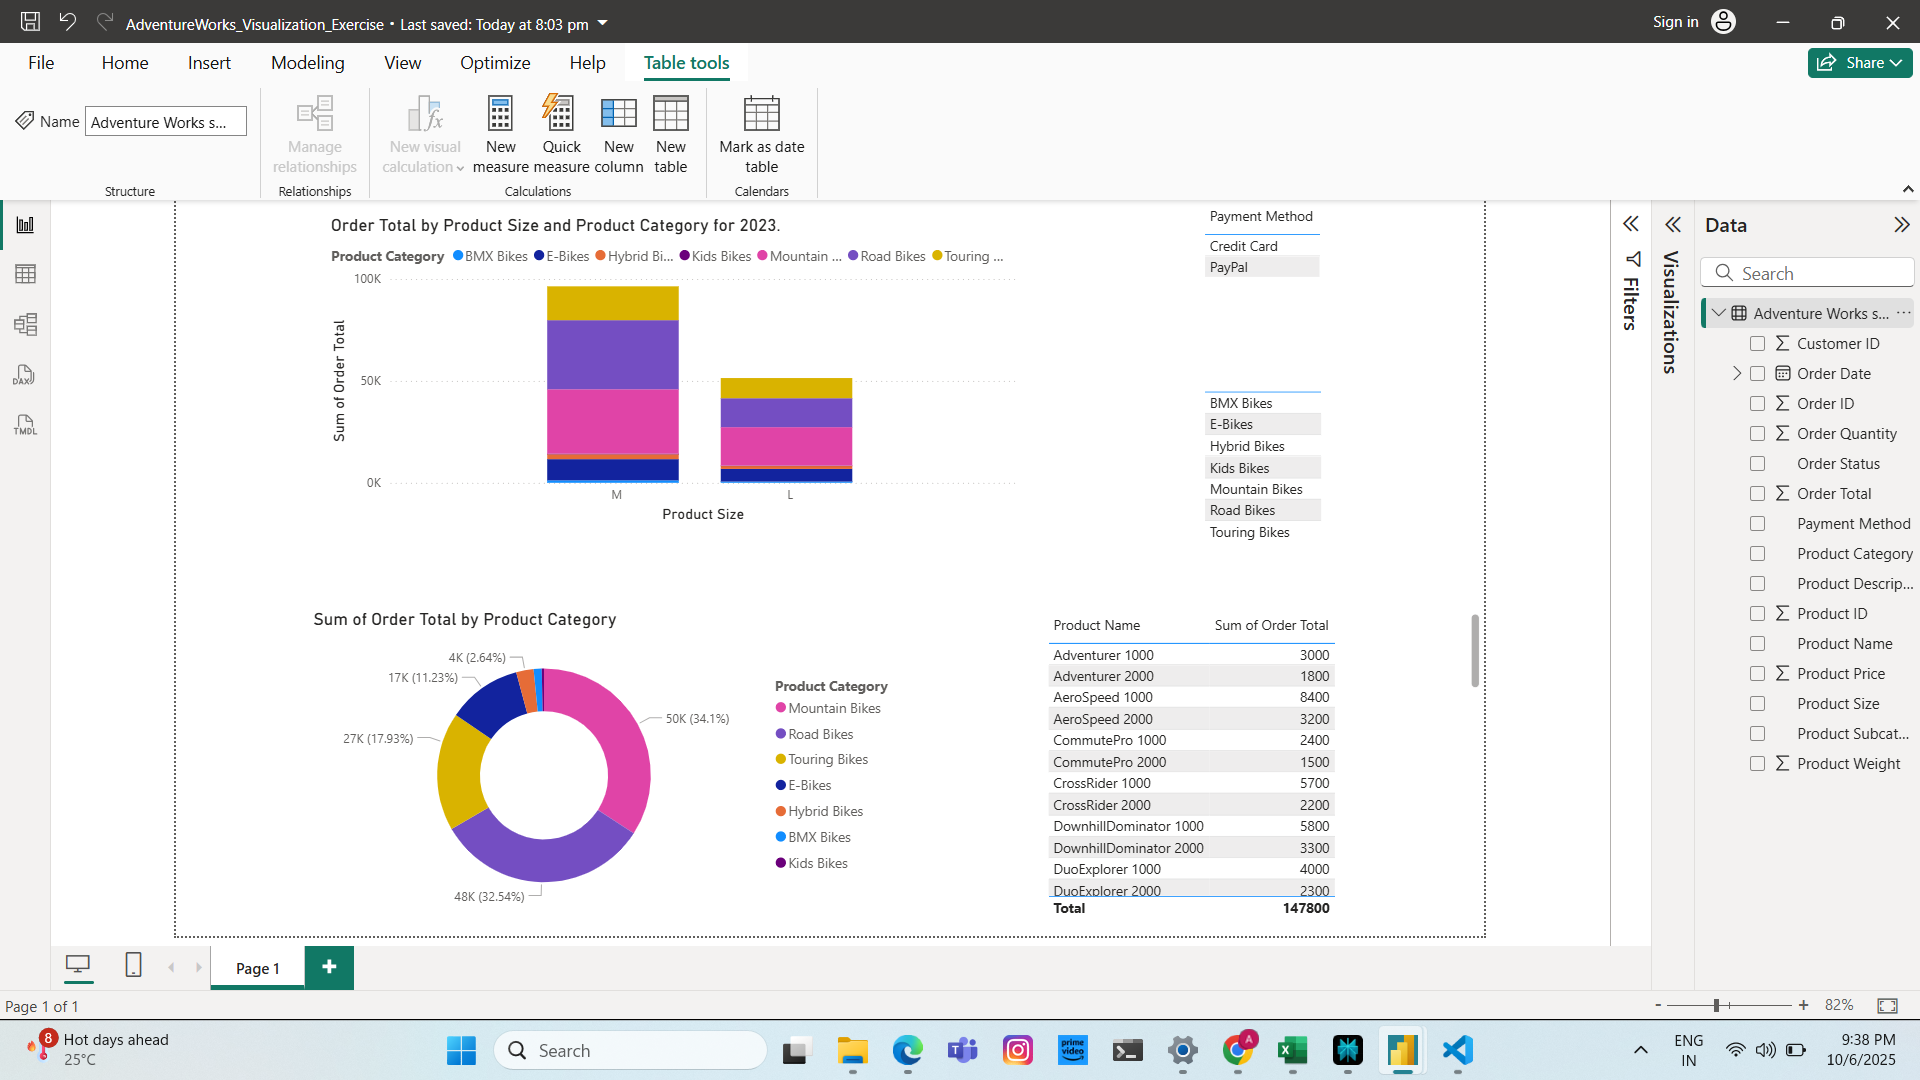

The page's visual inventory and layout, read from the dashboard file:
{"tool":"powerbi","page":{"name":"Page 1","canvas":[1280,720],"ordinal":0},"visuals":[{"type":"tableEx","fields":{"Values":["Adventure Works sales dataset csv.Product Category"]},"box":[1000,154.3,218.6,205.7],"z":0},{"type":"tableEx","fields":{"Values":["Adventure Works sales dataset csv.Payment Method"]},"box":[1000,0,180,178.6],"z":1000},{"type":"columnChart","title":"Order Total by Product Size and Product Category for 2023.","fields":{"Series":["Adventure Works sales dataset csv.Product Category"],"Y":["Sum(Adventure Works sales dataset csv.Order Total)"],"Category":["Adventure Works sales dataset csv.Product Size"]},"box":[147.1,14.3,680,305.7],"z":2000},{"type":"donutChart","fields":{"Y":["Sum(Adventure Works sales dataset csv.Order Total)"],"Category":["Adventure Works sales dataset csv.Product Category"]},"box":[130,400,587.1,307.1],"z":3000},{"type":"tableEx","fields":{"Values":["Adventure Works sales dataset csv.Product Name","Sum(Adventure Works sales dataset csv.Order Total)"]},"box":[847.1,400,432.9,307.1],"z":4000}]}

Visuals, with their boxes on the page's 1280x720 design canvas (x1, y1, x2, y2). These are canvas units, not pixel positions in the 1920x1080 screenshot, which may show the page scaled, cropped or inside an application window:
tableEx - Adventure Works sales dataset csv.Product Category: detection(1000, 154, 1219, 360)
tableEx - Adventure Works sales dataset csv.Payment Method: detection(1000, 0, 1180, 179)
"Order Total by Product Size and Product Category for 2023." columnChart: detection(147, 14, 827, 320)
donutChart - Sum(Adventure Works sales dataset csv.Order Total) x Adventure Works sales dataset csv.Product Category: detection(130, 400, 717, 707)
tableEx - Adventure Works sales dataset csv.Product Name x Sum(Adventure Works sales dataset csv.Order Total): detection(847, 400, 1280, 707)
